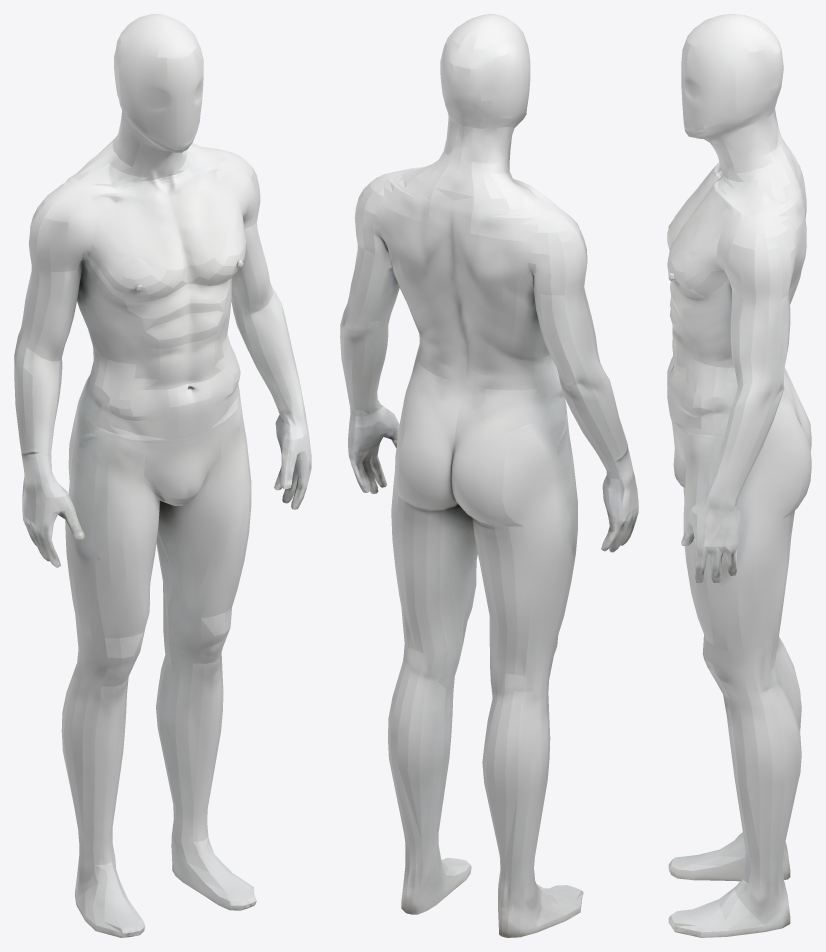
File: avatar_morphable.glb
3 views of the same model, side by side, from view 1: azimuth 30°, elevation 25°; view 2: azimuth 150°, elevation 25°; view 3: azimuth 270°, elevation 25° (orthographic).
Parts seen in each view (by area): view 1: model; view 2: model; view 3: model.
Part boxes in pixels (left/top/right/bottom): model: left=14, top=14, right=311, bottom=937; model: left=340, top=14, right=638, bottom=937; model: left=667, top=14, right=811, bottom=937.
Size of the model in its own units: 0.6226 by 1.9 by 0.2817.
1 material, 1 textured.
